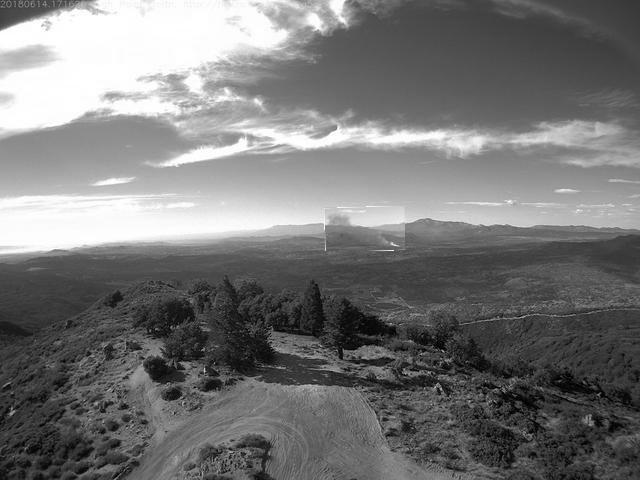smoke: (326, 208, 407, 253)
